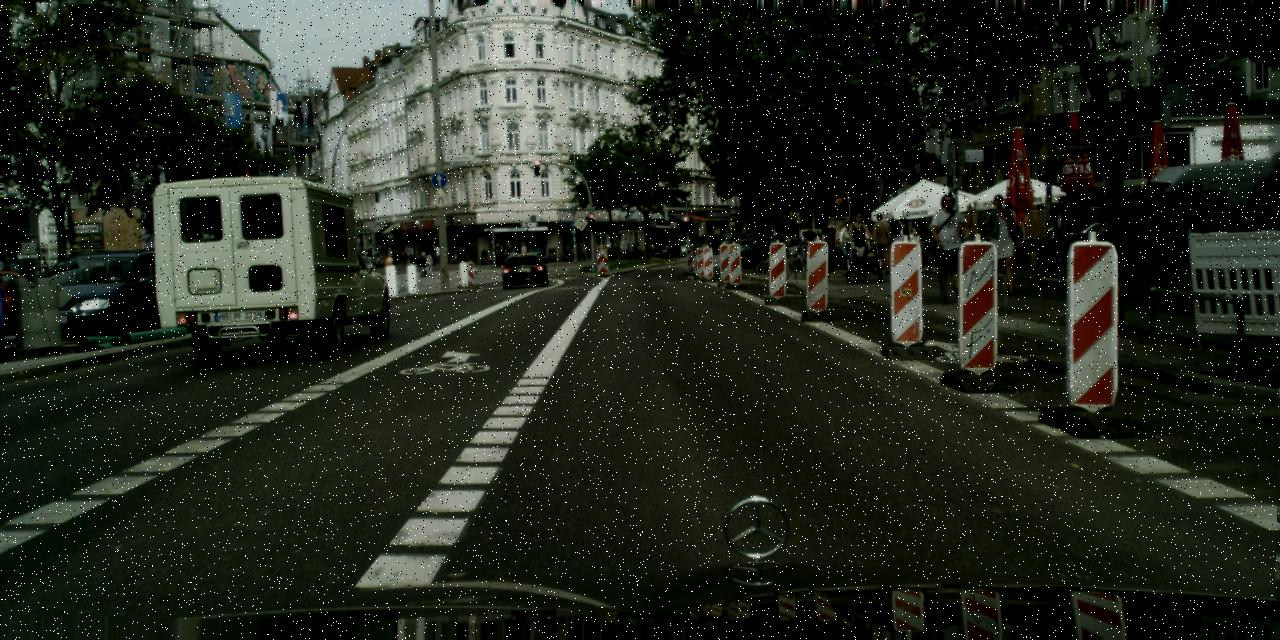ped: (926, 192, 969, 298), (1249, 151, 1279, 297), (1057, 189, 1097, 288), (980, 194, 1019, 288), (1050, 199, 1082, 279), (1051, 195, 1082, 272), (847, 213, 874, 278), (868, 212, 892, 270), (920, 216, 941, 270), (819, 219, 839, 270), (893, 218, 913, 268), (833, 220, 853, 268), (837, 220, 855, 264), (802, 224, 818, 266), (907, 228, 922, 266), (772, 229, 786, 265), (789, 232, 800, 260), (518, 240, 528, 264), (503, 241, 513, 265), (492, 242, 502, 266), (418, 252, 428, 276), (760, 231, 770, 253), (814, 230, 823, 254), (496, 245, 506, 266), (422, 252, 432, 272), (413, 242, 421, 262), (577, 240, 585, 259), (447, 242, 454, 260), (408, 244, 415, 262), (404, 244, 411, 262), (428, 246, 435, 263), (386, 246, 392, 264), (420, 242, 426, 258), (667, 234, 672, 249), (658, 234, 663, 248)
